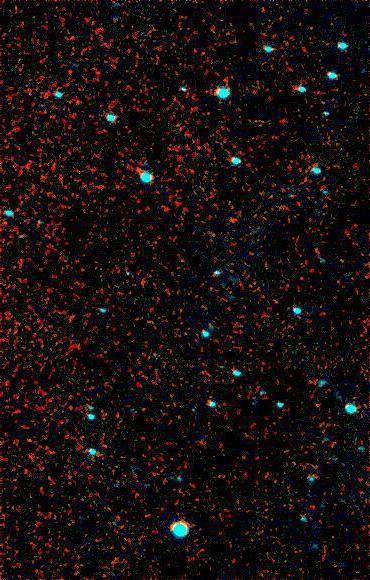star: (221, 201, 251, 231)
